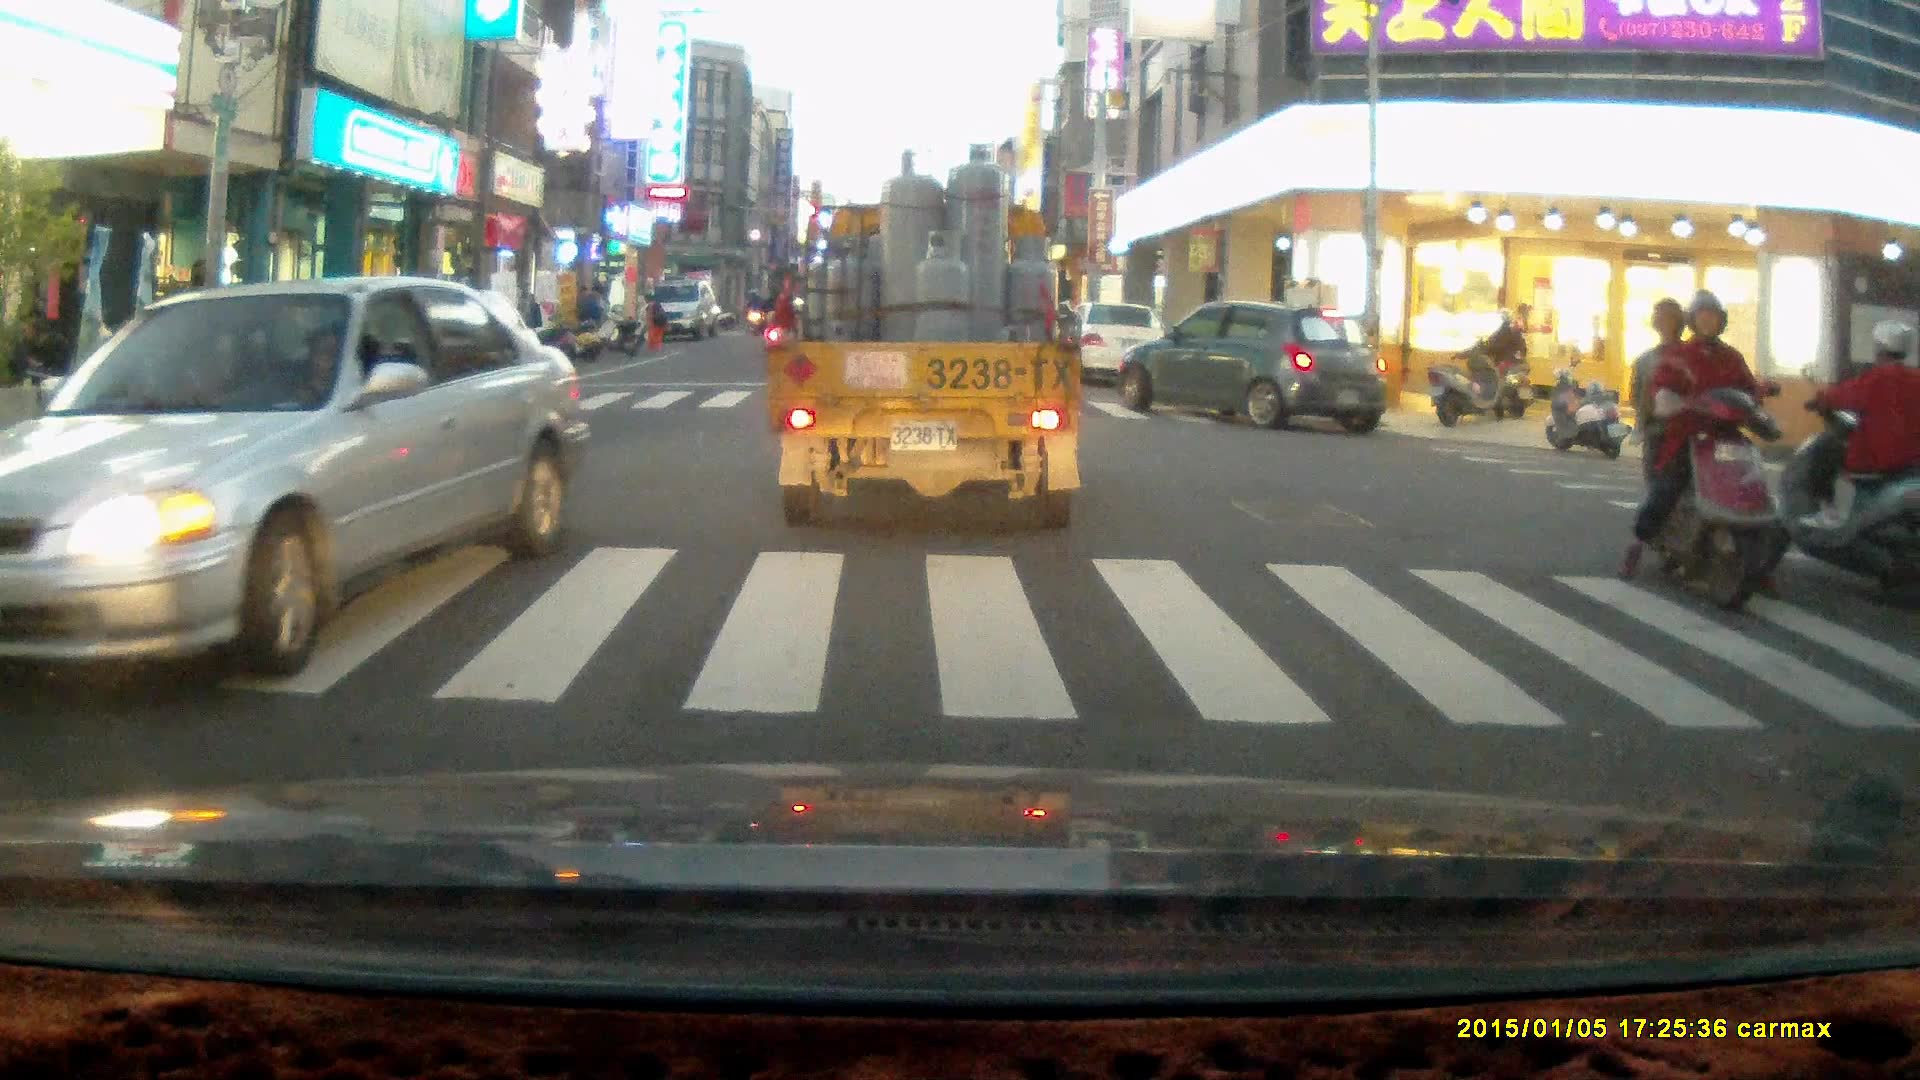pedestrian: (575, 283, 603, 348), (638, 292, 664, 352)
rider: (1612, 291, 1781, 618), (1748, 318, 1920, 609), (1473, 306, 1536, 423)
vehicle: (1, 277, 591, 691), (770, 142, 1085, 535), (1120, 302, 1391, 434), (1057, 303, 1179, 388), (637, 279, 715, 342)
